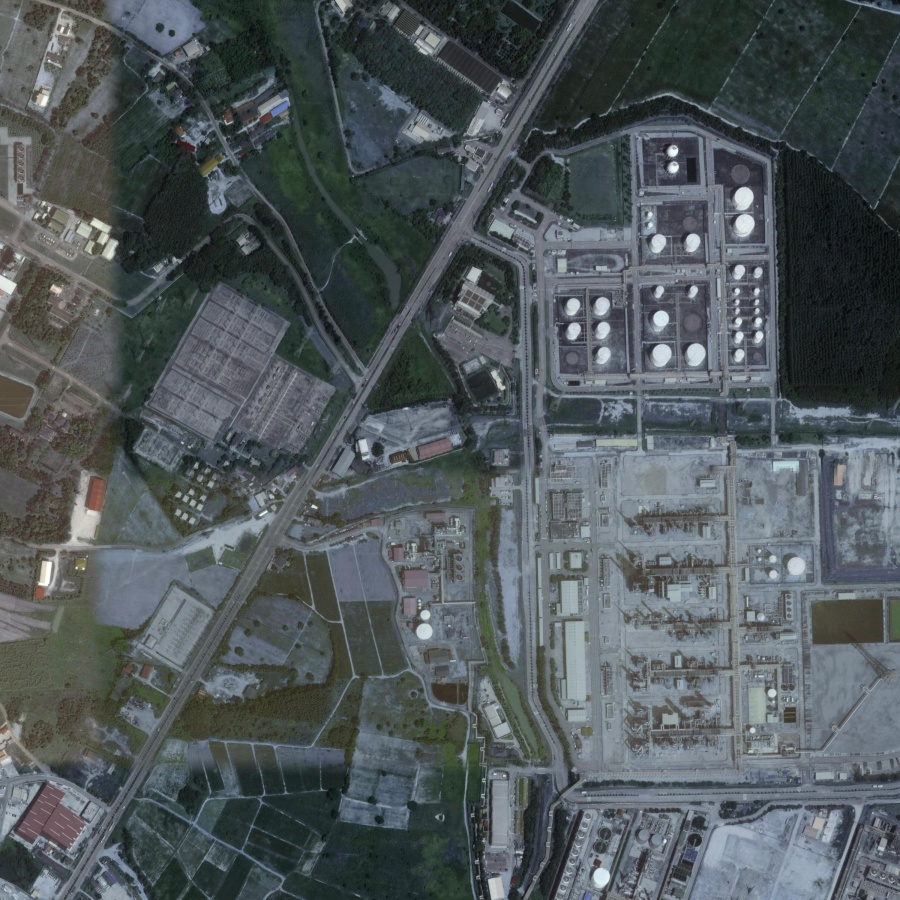PowerPlant: (501, 122, 779, 405), (613, 485, 807, 673)
